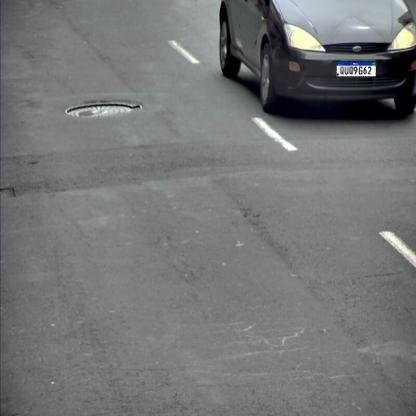PlacaM: (336, 61, 376, 77)
